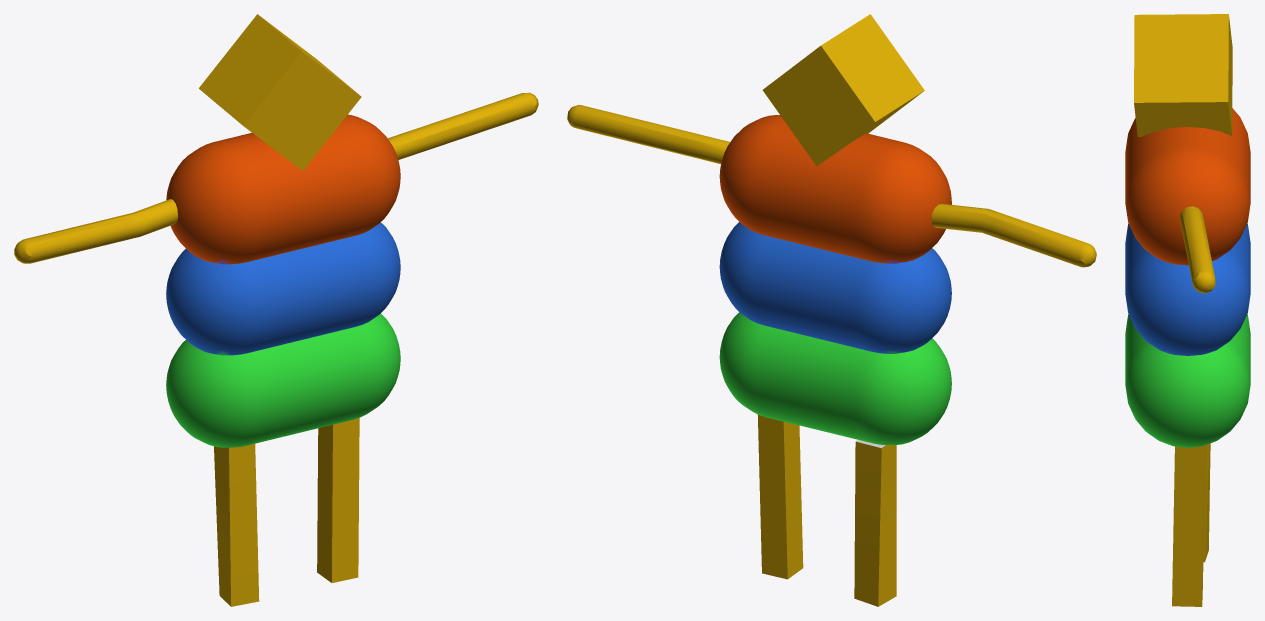
The model's file is guest3.fbx.
The picture shows the model from 3 angles, left to right: view 1: azimuth 30°, elevation 25°; view 2: azimuth 150°, elevation 25°; view 3: azimuth 270°, elevation 25°; orthographic projection.
Visible parts, largest first — view 1: guest3; view 2: guest3; view 3: guest3.
Part boxes in pixels (left/top/right/bottom): guest3: left=14, top=14, right=538, bottom=606; guest3: left=567, top=14, right=1096, bottom=606; guest3: left=1125, top=14, right=1250, bottom=606.
Bounding box in the file's own units: 172 × 175 × 35.46.
